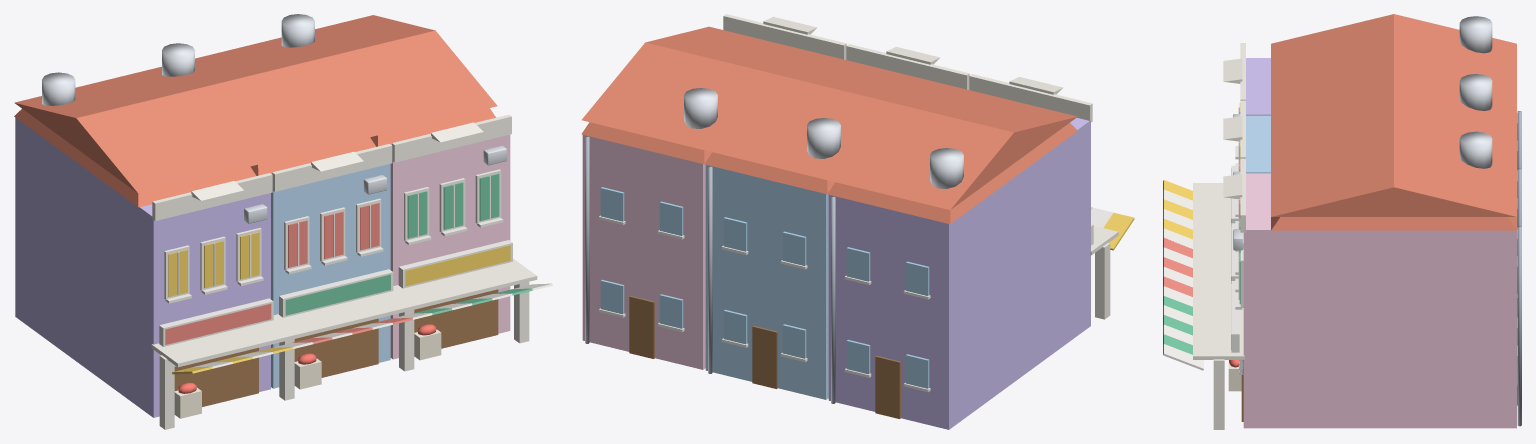
The model's file is Bld_ShopRowB.fbx.
The picture shows the model from 3 angles, left to right: view 1: azimuth 30°, elevation 25°; view 2: azimuth 150°, elevation 25°; view 3: azimuth 270°, elevation 25°; orthographic projection. The views are drawn at different scales.
Visible parts, largest first — view 1: Bld_ShopRowB; view 2: Bld_ShopRowB; view 3: Bld_ShopRowB.
Part boxes in pixels (bbox=[...]): Bld_ShopRowB: bbox=[14, 14, 552, 429]; Bld_ShopRowB: bbox=[581, 14, 1134, 429]; Bld_ShopRowB: bbox=[1163, 14, 1521, 429].
Size of the model in its own units: 15.2 by 9.85 by 13.13.
